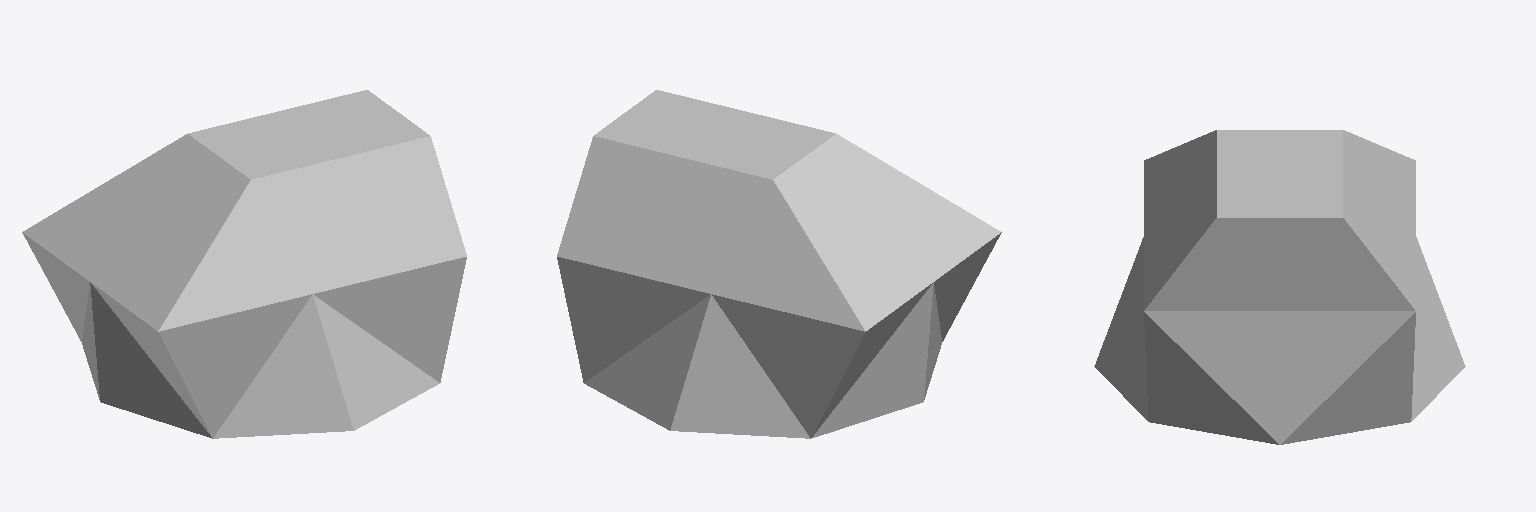
Rendered from HomeFuge_BeamTurret.obj.
3 views of the same model, side by side, from view 1: azimuth 30°, elevation 25°; view 2: azimuth 150°, elevation 25°; view 3: azimuth 270°, elevation 25° (orthographic).
Parts seen in each view (by area): view 1: LaserTurret.Right; view 2: LaserTurret.Right; view 3: LaserTurret.Right.
Part boxes in pixels (x1,y1,x2,y2): LaserTurret.Right: (22, 90, 466, 438); LaserTurret.Right: (557, 90, 1001, 438); LaserTurret.Right: (1094, 130, 1465, 444).
Size of the model in its own units: 18.98 by 11.84 by 18.41.